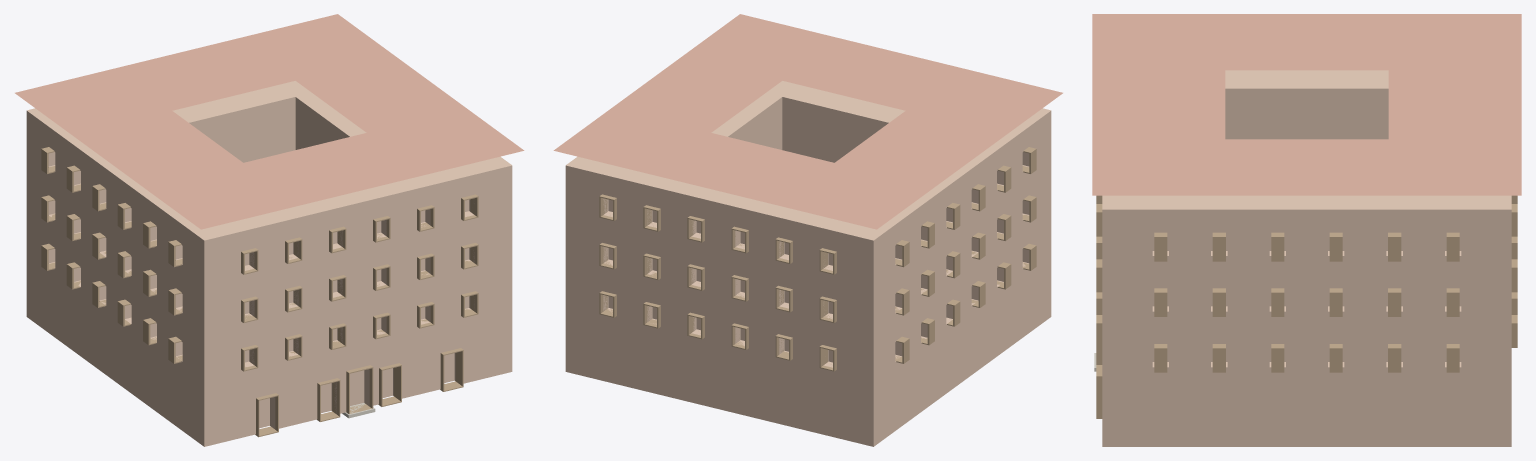
The model's file is mvp_Insulae_v1.glb.
3 renders of one model, left to right at view 1: azimuth 30°, elevation 25°; view 2: azimuth 150°, elevation 25°; view 3: azimuth 270°, elevation 25°, orthographic. The views are drawn at different scales.
Visible parts, largest first — view 1: Roman_Insula, Roof_Base, Frame_Taberna_Door_3, Frame_Taberna_Door_1, Frame_Taberna_Door_2, Frame_Main_Entrance, Frame_Taberna_Door_0; view 2: Roman_Insula, Roof_Base; view 3: Roman_Insula, Roof_Base.
Part boxes in pixels (left/top/right/bottom): Roman_Insula: left=26, top=81, right=512, bottom=446; Roof_Base: left=15, top=14, right=524, bottom=229; Frame_Taberna_Door_3: left=440, top=348, right=463, bottom=391; Frame_Taberna_Door_1: left=317, top=378, right=340, bottom=421; Frame_Taberna_Door_2: left=378, top=363, right=401, bottom=406; Frame_Main_Entrance: left=346, top=365, right=373, bottom=414; Frame_Taberna_Door_0: left=255, top=393, right=278, bottom=437; Roman_Insula: left=565, top=81, right=1051, bottom=446; Roof_Base: left=553, top=14, right=1062, bottom=229; Roman_Insula: left=1102, top=70, right=1511, bottom=446; Roof_Base: left=1092, top=14, right=1521, bottom=195.
Size of what is drawn, in the model's own units: 21 by 14 by 21.
